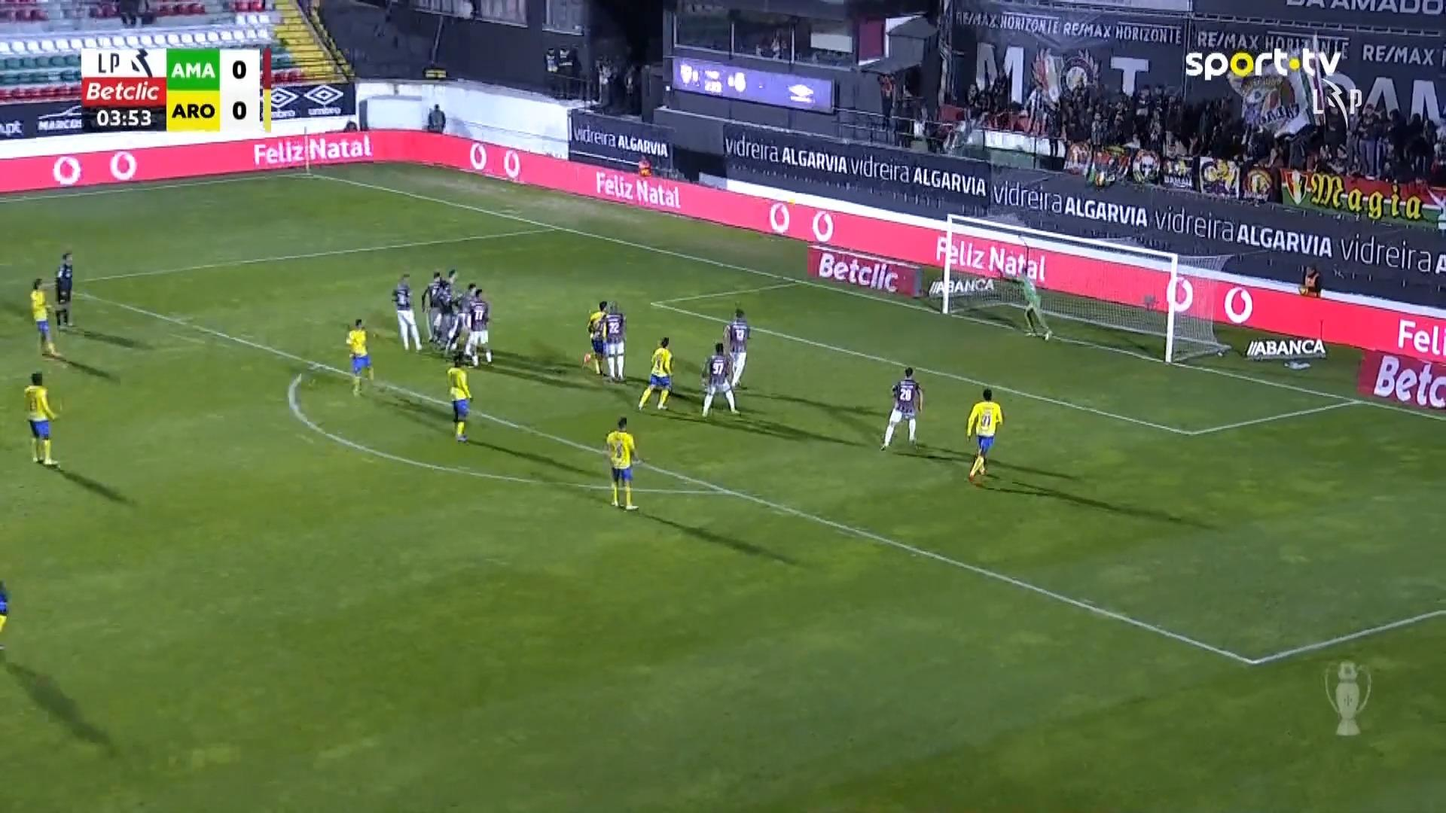goalkeeper: (1016, 268, 1054, 340)
player: (879, 366, 923, 451), (965, 387, 1003, 483), (23, 370, 60, 466), (604, 416, 641, 510), (700, 342, 740, 418), (636, 336, 674, 411), (421, 268, 458, 345), (390, 272, 423, 352), (29, 276, 60, 358), (597, 300, 627, 383), (444, 282, 478, 355), (462, 288, 493, 367), (445, 353, 472, 443), (722, 307, 751, 389), (345, 317, 375, 395), (584, 300, 608, 376)
referee: (53, 251, 75, 328), (1298, 263, 1322, 297)
